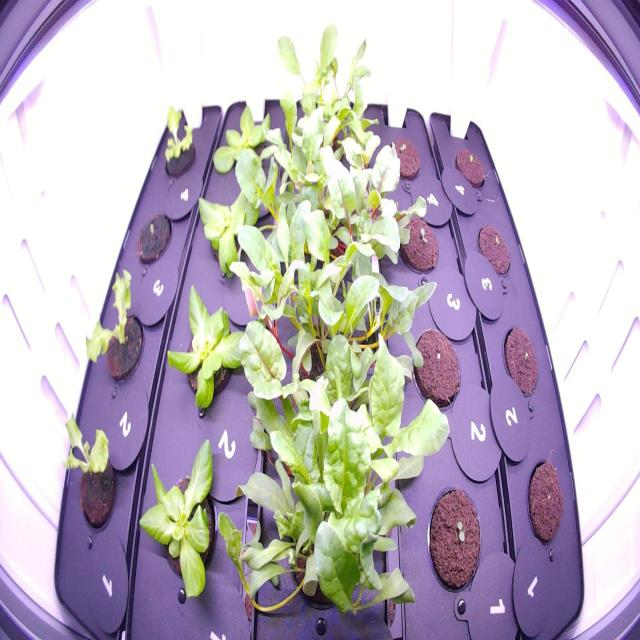germination: (420, 477, 485, 603), (388, 203, 444, 285), (381, 128, 426, 185)
pod: (404, 323, 467, 418), (521, 450, 568, 558), (498, 322, 542, 406), (473, 215, 515, 284), (131, 204, 174, 270), (450, 138, 490, 194)
young: (130, 430, 228, 612), (160, 274, 267, 426), (189, 166, 289, 292), (200, 95, 286, 193)
